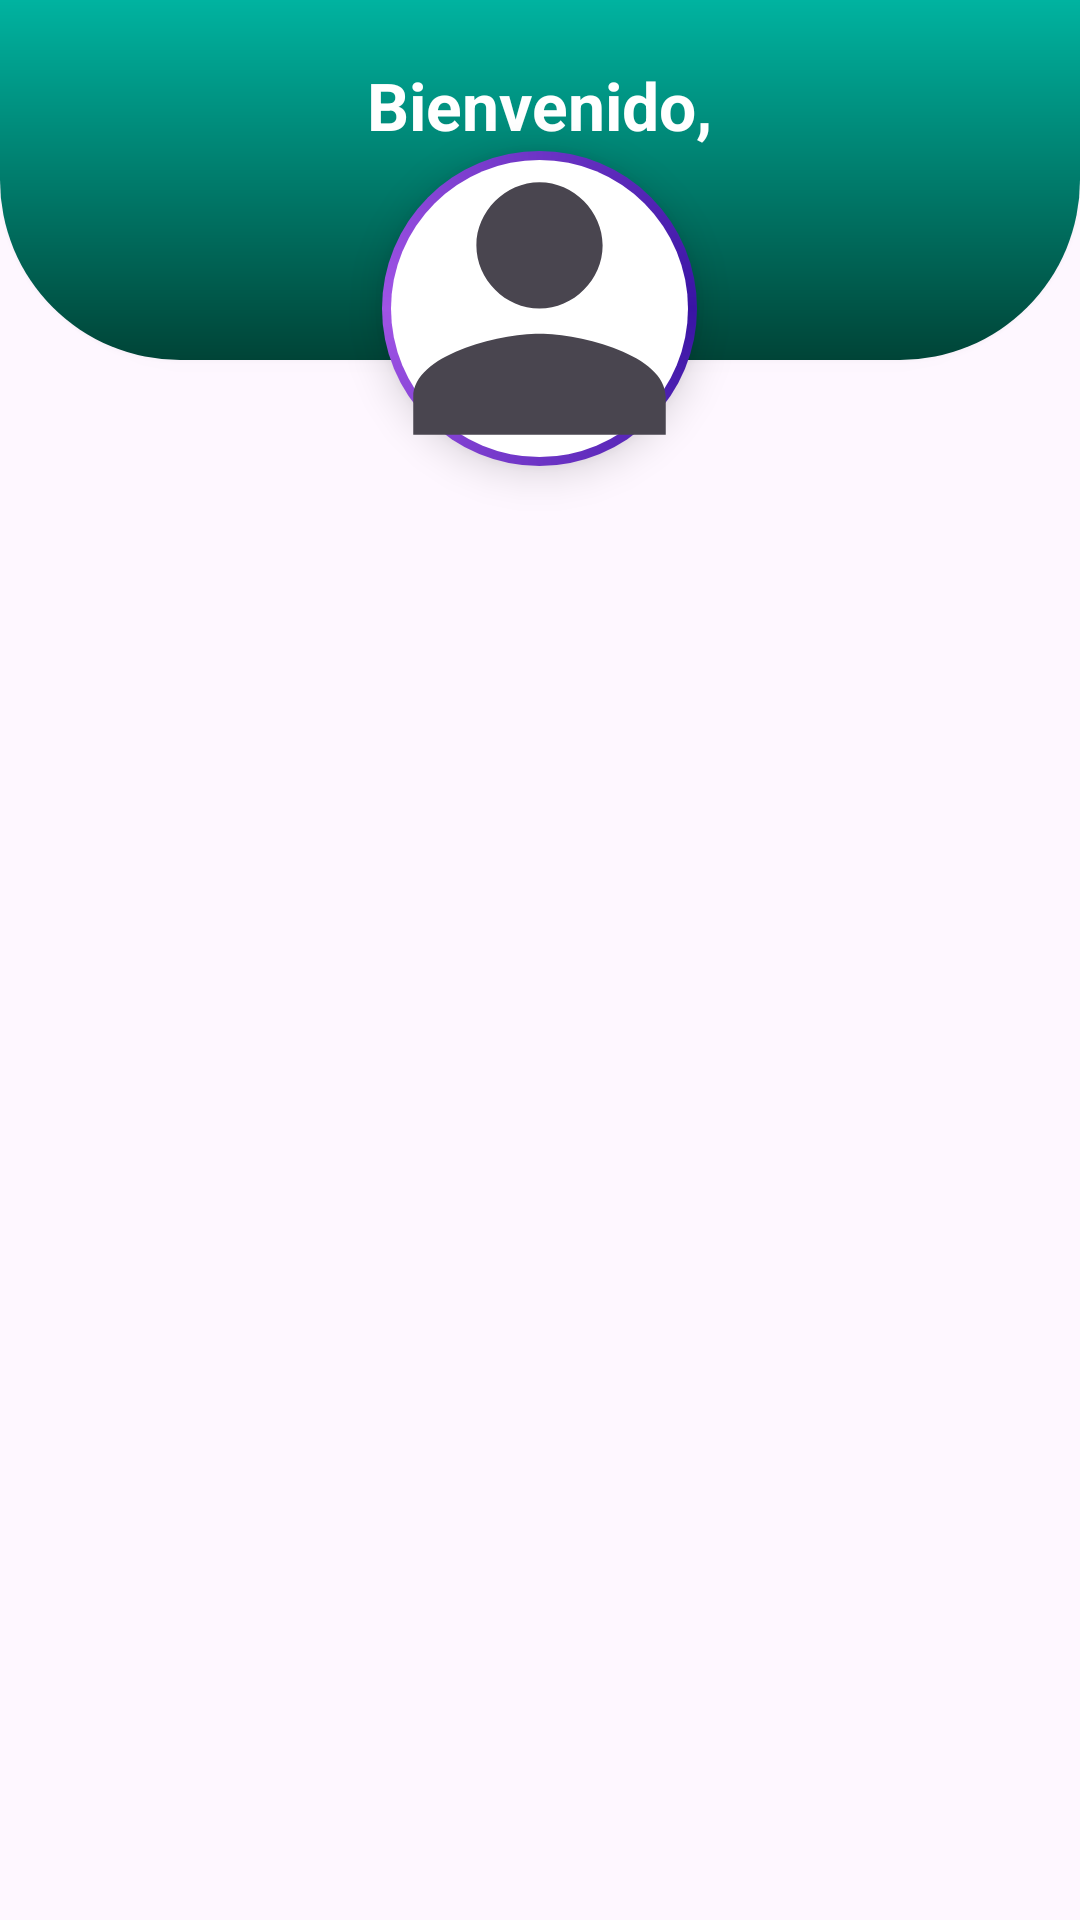

Where to tap for icons on this 1080px×1920px app screen, as (x,y):
Avatar: (539,308)
